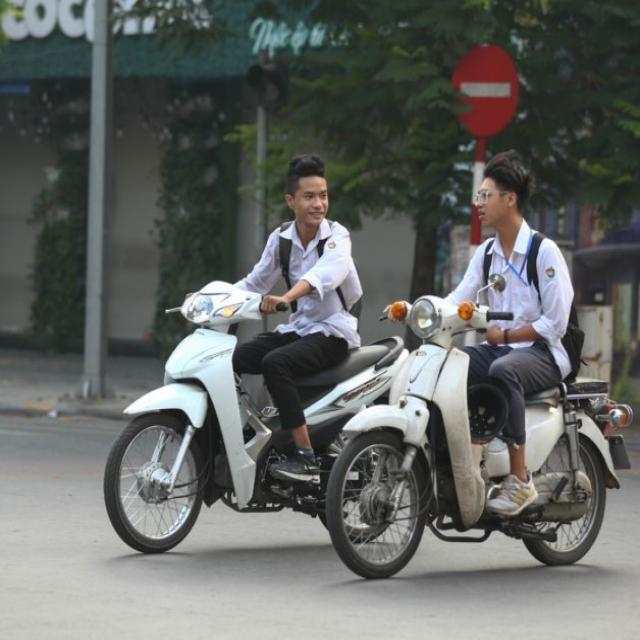no_helmet: (470, 141, 538, 228), (278, 148, 338, 230)
